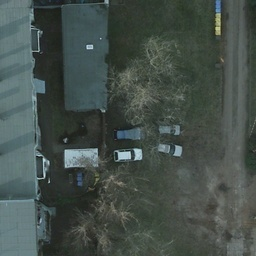car: (112, 147, 143, 163), (154, 142, 184, 158), (153, 122, 178, 138)
